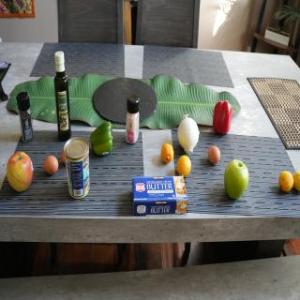bell_pepper: (90, 122, 114, 156), (212, 100, 234, 134)
egg: (207, 146, 221, 167), (43, 155, 57, 175)
onion: (177, 114, 201, 154)
